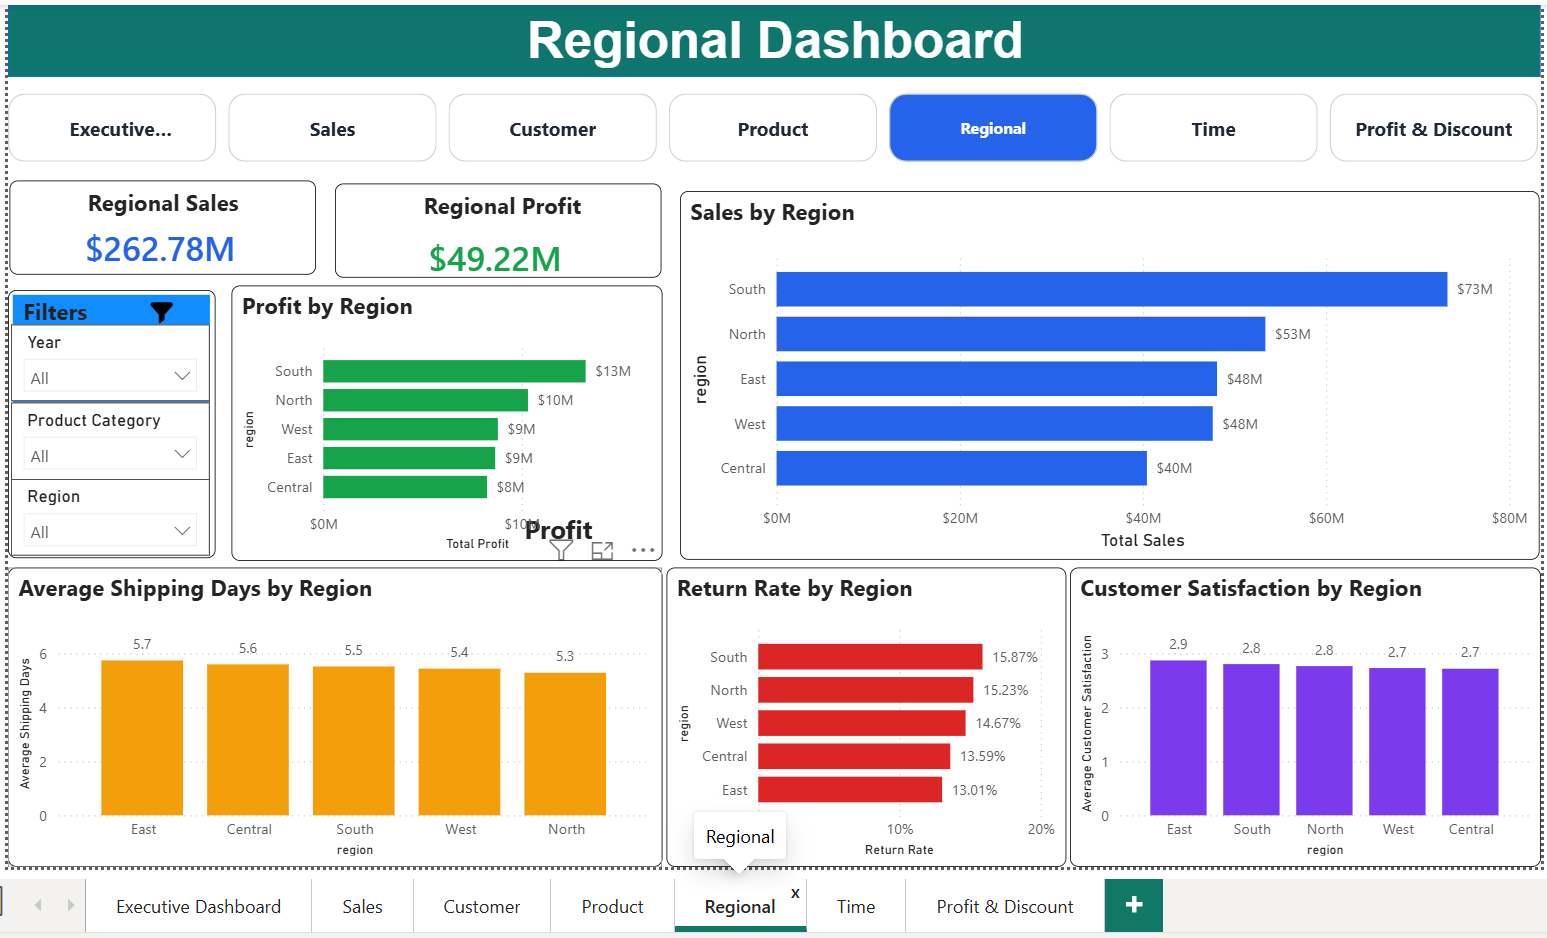

What the dashboard file says about the page in this screenshot:
{"tool":"powerbi","page":{"name":"Regional","canvas":[1280,720],"ordinal":4},"visuals":[{"type":"shape","box":[0,0,1280,60],"z":0},{"type":"textbox","box":[393.3,0,495,60],"z":1000},{"type":"clusteredBarChart","title":"Sales by Region","fields":{"Category":["retail_sales_final.region"],"Y":["Measures (2).Total Sales"]},"box":[561.4,155.7,718,308],"z":2000},{"type":"clusteredColumnChart","title":"Customer Satisfaction by Region","fields":{"Category":["retail_sales_final.region"],"Y":["Measures (2).Average Customer Satisfaction"]},"box":[886.7,470,393.3,250],"z":4000},{"type":"clusteredColumnChart","title":"Average Shipping Days by Region","fields":{"Category":["retail_sales_final.region"],"Y":["Measures (2).Average Shipping Days"]},"box":[0,470,546.7,250],"z":5000},{"type":"clusteredBarChart","title":"Return Rate by Region","fields":{"Category":["retail_sales_final.region"],"Y":["Measures (2).Return Rate"]},"box":[549.7,470,334,250],"z":6000},{"type":"shape","box":[0,238.6,173,224.3],"z":7000},{"type":"slicer","title":"Year","fields":{"Values":["DateTable.Year"]},"box":[2.9,267.1,166,64],"z":8000},{"type":"slicer","title":"Category","fields":{"Values":["retail_sales_final.product_category"]},"box":[2.9,331.4,166,65],"z":9000},{"type":"slicer","title":"Region","fields":{"Values":["retail_sales_final.region"]},"box":[2.9,395.7,166,64],"z":10000},{"type":"textbox","box":[4.3,238.6,71.7,41.7],"z":11000},{"type":"image","box":[102.9,245.7,51.7,22],"z":12000},{"type":"cardVisual","fields":{"Data":["Measures (2).Total Sales"]},"box":[40,177.1,177,50],"z":14000},{"type":"shape","box":[1.4,147.1,255.7,78.6],"z":15000},{"type":"textbox","box":[50,147.1,159,36],"z":16000},{"type":"textbox","box":[331.4,148.6,162,37],"z":17000},{"type":"textbox","box":[409.5,417.4,100,41.7],"z":18000},{"type":"cardVisual","fields":{"Data":["Measures (2).Total Profit"]},"box":[327.1,185.7,166,49],"z":19000},{"type":"pageNavigator","box":[0,74.3,1280,57.1],"z":20000},{"type":"shape","box":[272.9,148.6,272.9,78.6],"z":20500},{"type":"clusteredBarChart","title":"Profit by Region","fields":{"Category":["retail_sales_final.region"],"Y":["Measures (2).Total Profit"]},"box":[187.1,234.3,360,230],"z":21000}]}

Visuals, with their boxes on the page's 1280x720 design canvas (x1, y1, x2, y2). These are canvas units, not pixel positions in the 1547x938 screenshot, which may show the page scaled, cropped or inside an application window:
shape: bbox=[0, 0, 1280, 60]
textbox: bbox=[393, 0, 888, 60]
"Sales by Region" clusteredBarChart: bbox=[561, 156, 1279, 464]
"Customer Satisfaction by Region" clusteredColumnChart: bbox=[887, 470, 1280, 720]
"Average Shipping Days by Region" clusteredColumnChart: bbox=[0, 470, 547, 720]
"Return Rate by Region" clusteredBarChart: bbox=[550, 470, 884, 720]
shape: bbox=[0, 239, 173, 463]
"Year" slicer: bbox=[3, 267, 169, 331]
"Category" slicer: bbox=[3, 331, 169, 396]
"Region" slicer: bbox=[3, 396, 169, 460]
textbox: bbox=[4, 239, 76, 280]
image: bbox=[103, 246, 155, 268]
cardVisual - Measures (2).Total Sales: bbox=[40, 177, 217, 227]
shape: bbox=[1, 147, 257, 226]
textbox: bbox=[50, 147, 209, 183]
textbox: bbox=[331, 149, 493, 186]
textbox: bbox=[410, 417, 510, 459]
cardVisual - Measures (2).Total Profit: bbox=[327, 186, 493, 235]
pageNavigator: bbox=[0, 74, 1280, 131]
shape: bbox=[273, 149, 546, 227]
"Profit by Region" clusteredBarChart: bbox=[187, 234, 547, 464]
